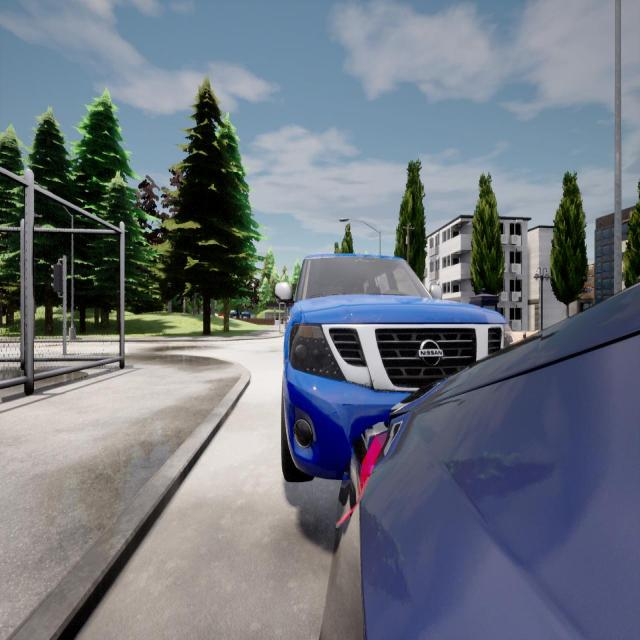Vehicle: (320, 289, 640, 638), (281, 250, 504, 480)
traffic_light: (50, 263, 62, 293)
